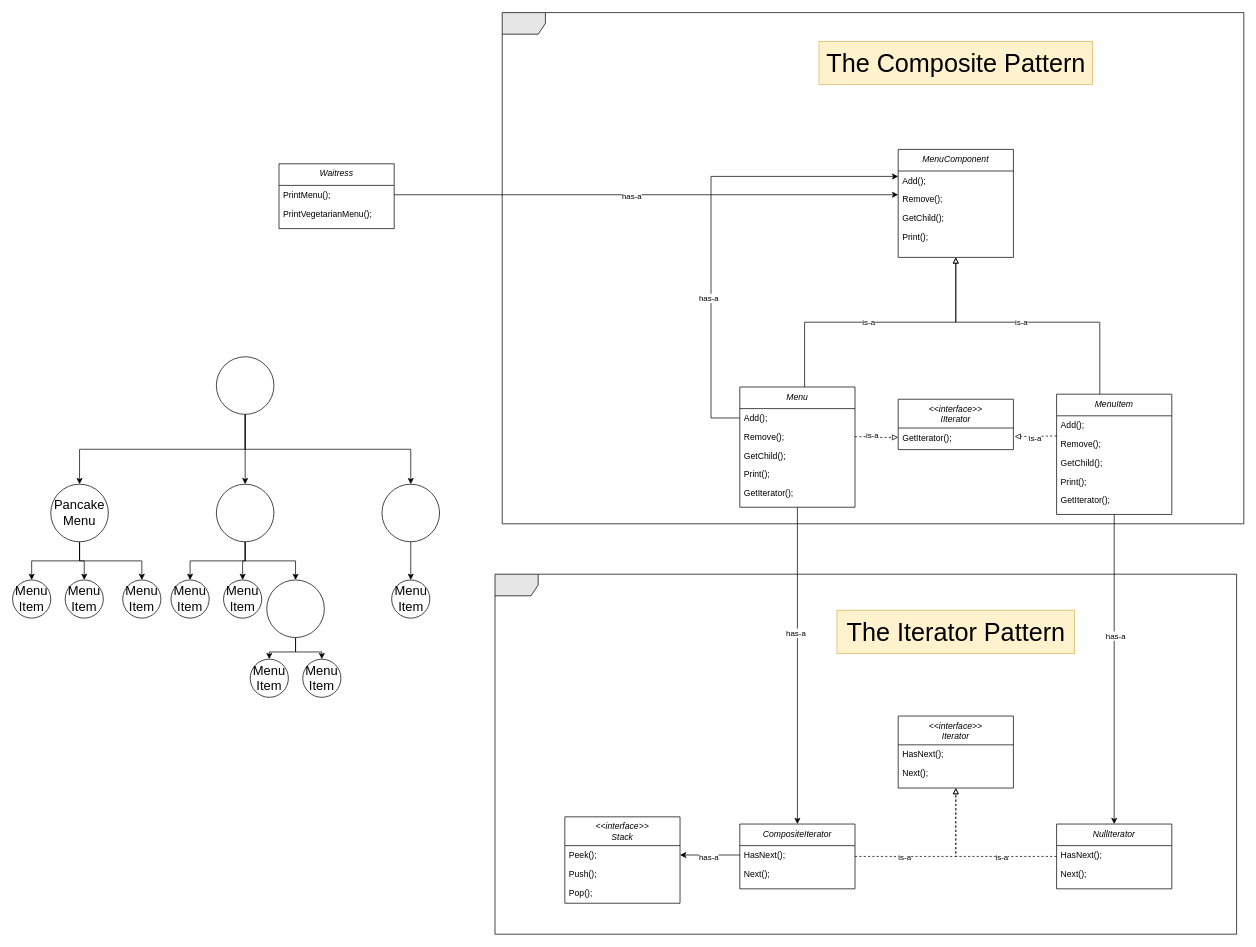
Some shapes in this 1256 by 947 pixel diagram are drawn without their labels. Each missing label, with the centre of its shape:
AllMenus: (x=245, y=385)
Cafe Menu: (x=410, y=512)
Composite Pattern: (x=872, y=268)
Dessert Menu: (x=295, y=608)
Diner Menu: (x=245, y=512)
Iterator Pattern: (x=865, y=753)
